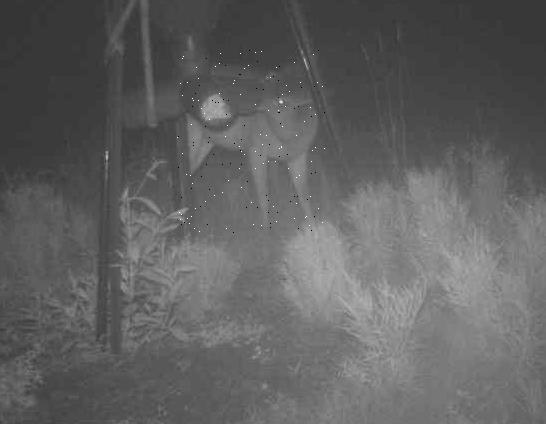Deer: (177, 51, 326, 234)
